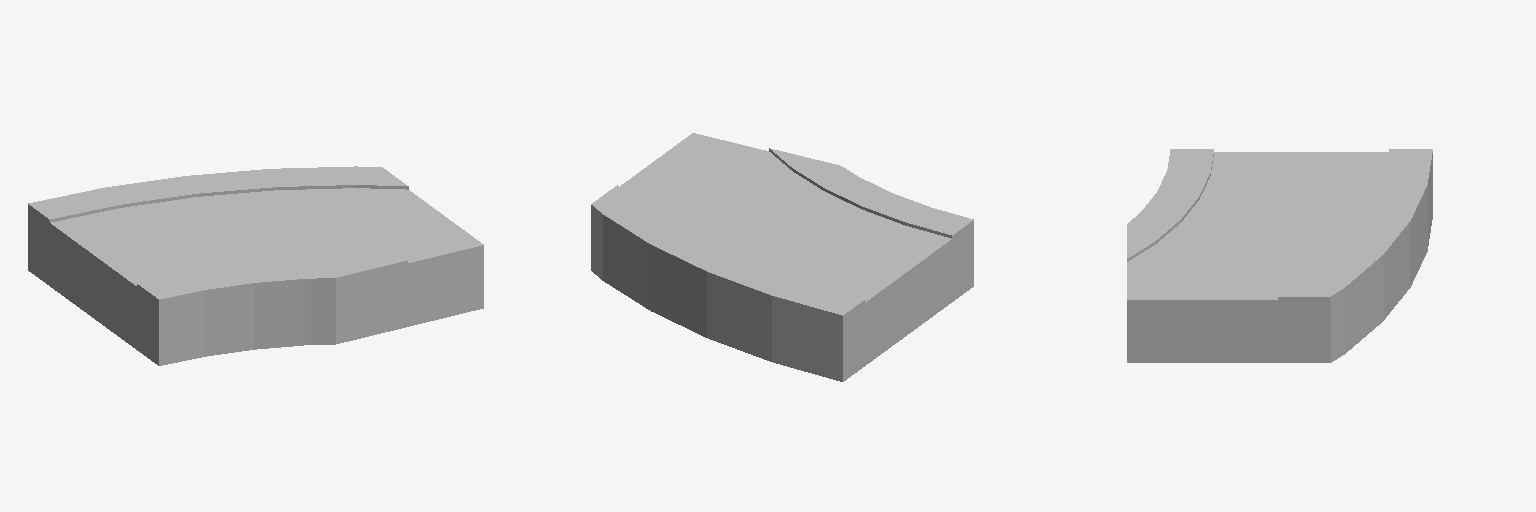
Rendered from tile197.obj.
3 views of the same model, side by side, from view 1: azimuth 30°, elevation 25°; view 2: azimuth 150°, elevation 25°; view 3: azimuth 270°, elevation 25° (orthographic).
Parts seen in each view (by area): view 1: tile197; view 2: tile197; view 3: tile197.
Boxes of the visible parts, x1=… form: tile197: x1=28, y1=166, x2=483, y2=365; tile197: x1=591, y1=133, x2=973, y2=381; tile197: x1=1127, y1=149, x2=1432, y2=362.
Bounding box in the file's own units: 1 × 0.21 × 0.875.